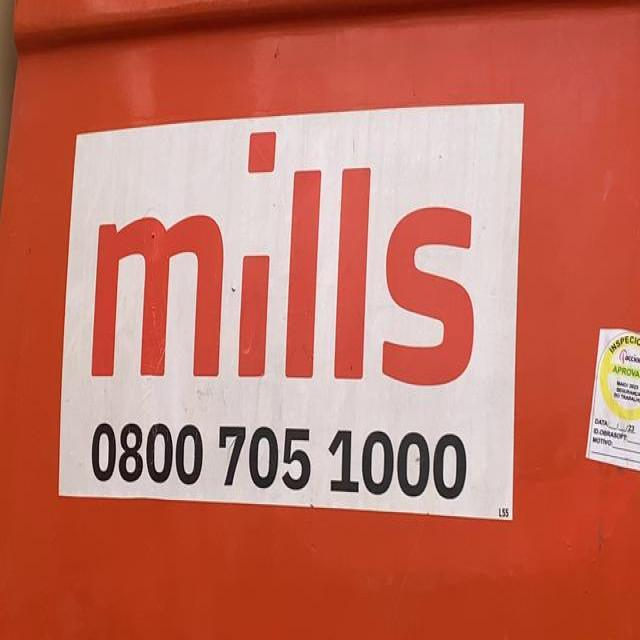Adesivos: (43, 82, 543, 541)
